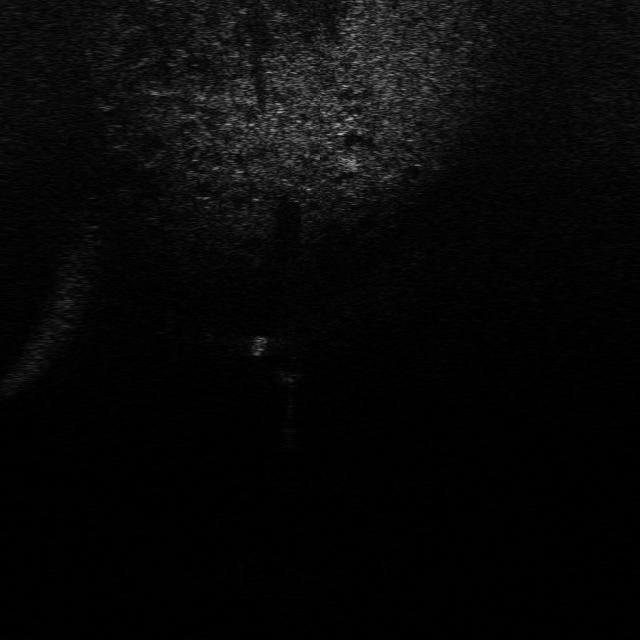cube: (246, 330, 270, 362)
cylinder: (270, 363, 306, 389)
